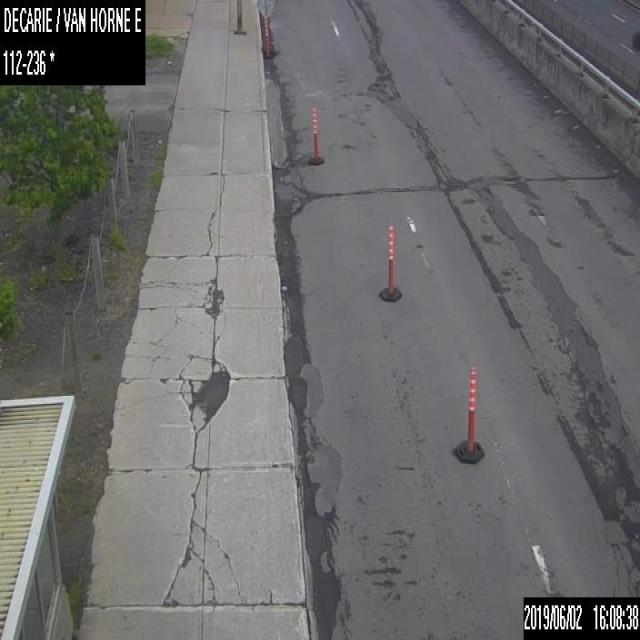construction: (454, 364, 484, 463), (379, 224, 400, 301), (306, 104, 324, 165), (262, 20, 273, 57)
